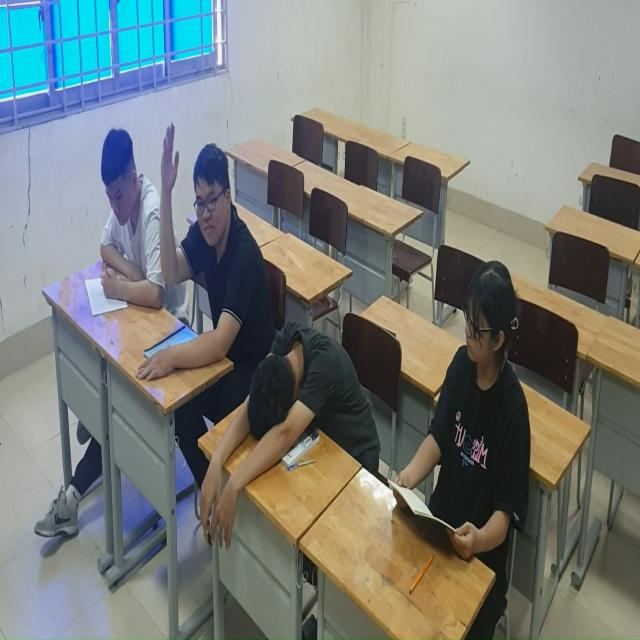raise_hand: (146, 116, 254, 364)
read: (386, 251, 537, 569), (80, 127, 163, 319)
sleep: (199, 315, 376, 557)
